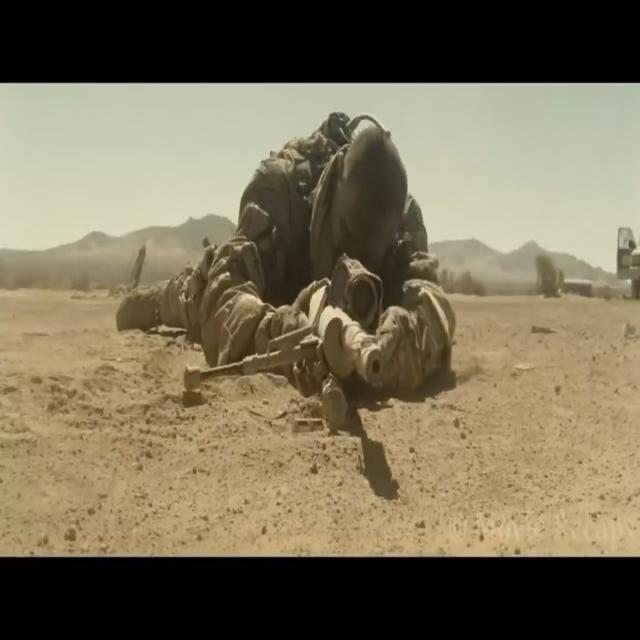MIL_Pax: (116, 113, 460, 434)
